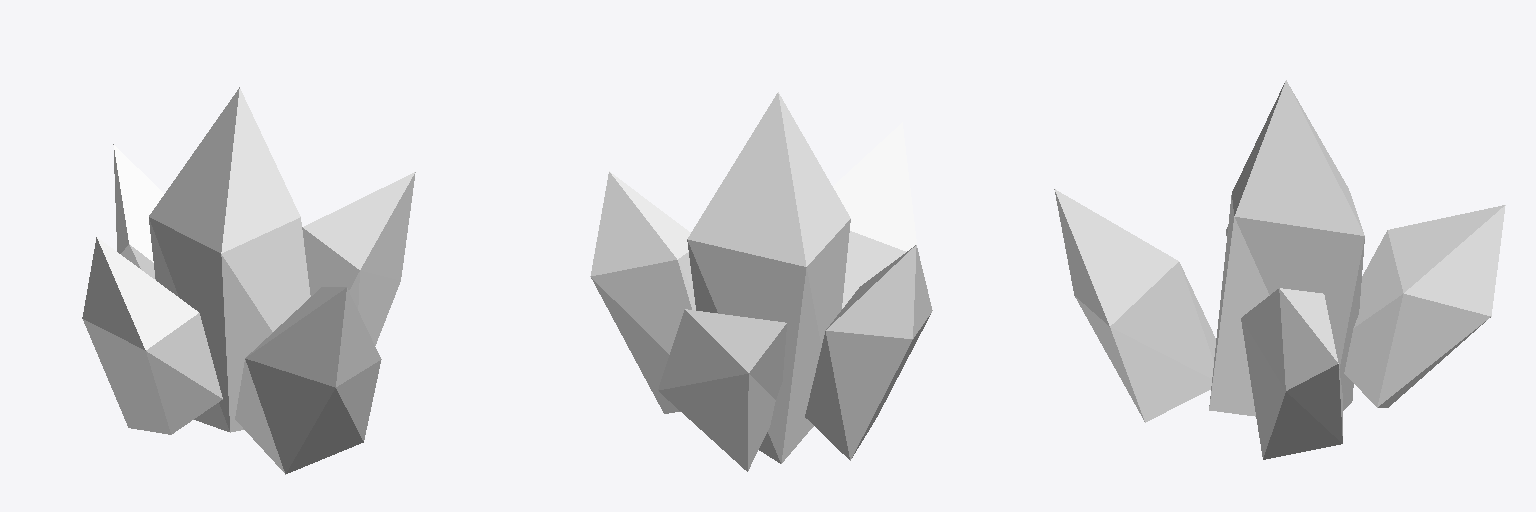
The model's file is spirit_stone_ore.obj.
3 views of the same model, side by side, from view 1: azimuth 30°, elevation 25°; view 2: azimuth 150°, elevation 25°; view 3: azimuth 270°, elevation 25° (orthographic).
Parts seen in each view (by area): view 1: Cube_Cube.001, Cube.002_Cube.003, Cube.004_Cube.005, Cube.001_Cube.002, Cube.003_Cube.004; view 2: Cube_Cube.001, Cube.004_Cube.005, Cube.001_Cube.002, Cube.003_Cube.004, Cube.002_Cube.003; view 3: Cube_Cube.001, Cube.003_Cube.004, Cube.002_Cube.003, Cube.001_Cube.002.
Boxes of the visible parts, x1=… form: Cube_Cube.001: x1=149, y1=87, x2=310, y2=432; Cube.002_Cube.003: x1=235, y1=287, x2=381, y2=474; Cube.004_Cube.005: x1=82, y1=237, x2=222, y2=434; Cube.001_Cube.002: x1=302, y1=172, x2=415, y2=345; Cube.003_Cube.004: x1=113, y1=144, x2=163, y2=279; Cube_Cube.001: x1=687, y1=92, x2=850, y2=463; Cube.004_Cube.005: x1=805, y1=245, x2=932, y2=460; Cube.001_Cube.002: x1=590, y1=171, x2=695, y2=413; Cube.003_Cube.004: x1=658, y1=309, x2=786, y2=471; Cube.002_Cube.003: x1=833, y1=122, x2=916, y2=308; Cube_Cube.001: x1=1209, y1=80, x2=1364, y2=416; Cube.003_Cube.004: x1=1344, y1=205, x2=1505, y2=407; Cube.002_Cube.003: x1=1054, y1=189, x2=1215, y2=422; Cube.001_Cube.002: x1=1241, y1=288, x2=1342, y2=459.
Size of the model in its own units: 0.9053 by 0.922 by 1.11.